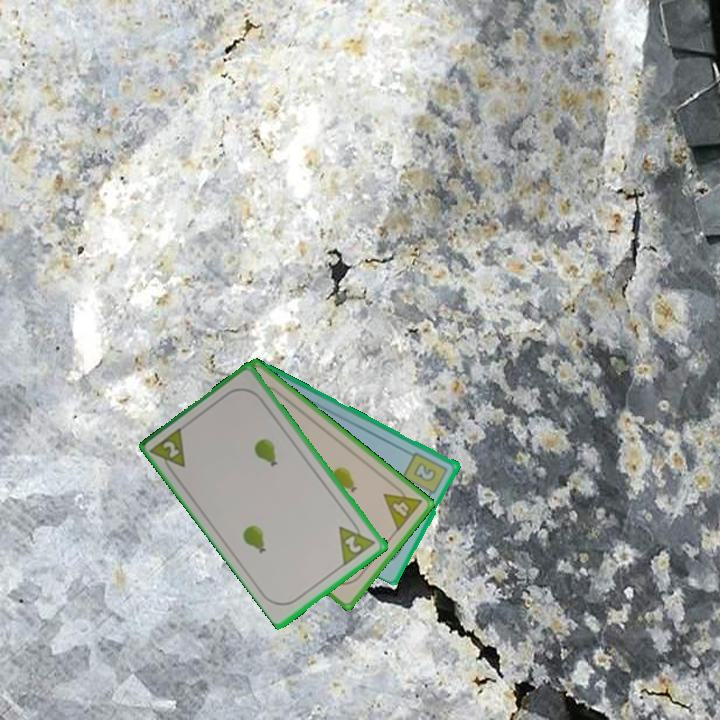2b: (400, 448, 451, 501)
2p: (148, 423, 189, 479), (341, 532, 365, 556)
4p: (380, 480, 425, 534)
